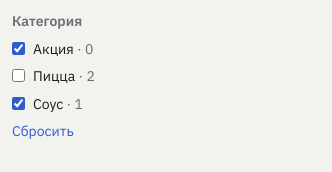
Test: после «Сбросить» фокус — на первой галочке, а не потерян
Click the button "Сбросить": x=43, y=132 top-left (12, 122), bottom-right (74, 142)
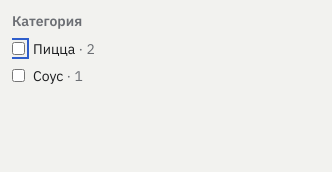
Expected: the checkbox labelled "Акция · 0" is not shown
Result: the button "Сбросить" is gone
